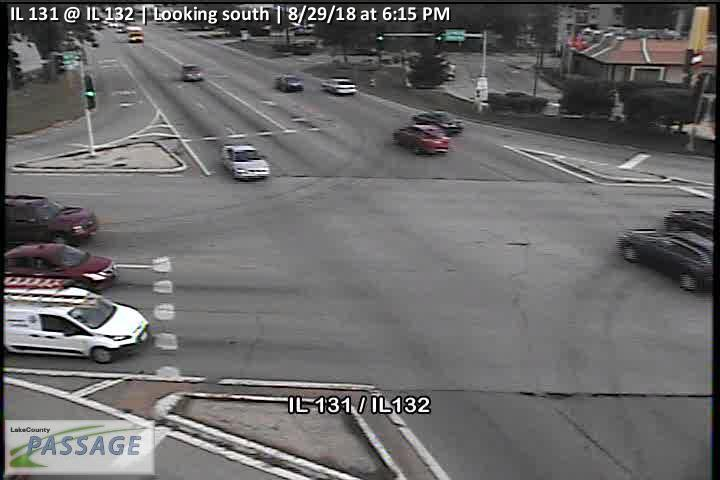SUV: (1, 272, 151, 364), (1, 243, 122, 293), (1, 191, 100, 247)
Sedan: (617, 223, 720, 291), (220, 142, 271, 180), (393, 123, 452, 155), (412, 107, 465, 138), (317, 77, 359, 95), (274, 74, 305, 92), (178, 62, 204, 82)
